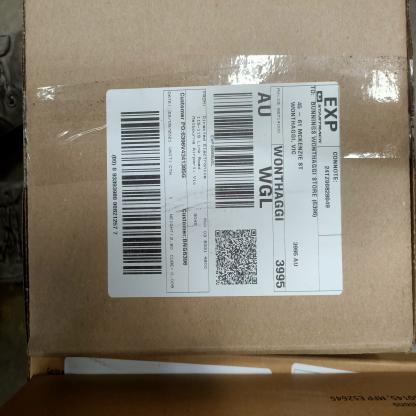label: (104, 81, 344, 298)
package: (26, 0, 416, 362)
